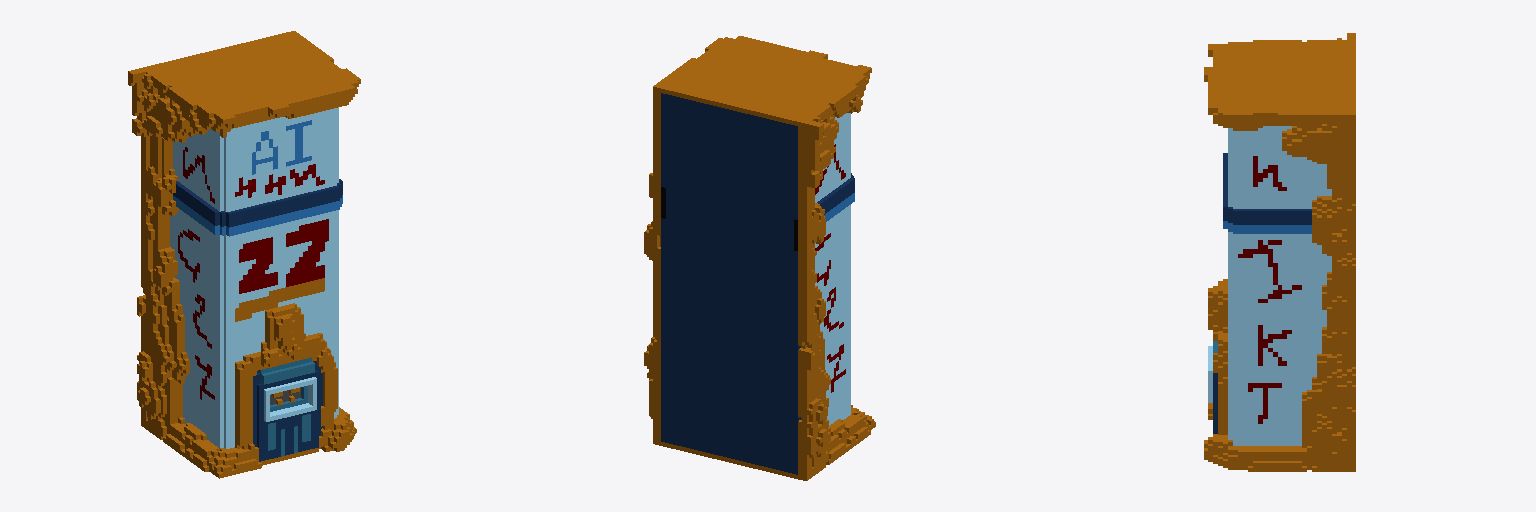
3 views of the same model, side by side, from view 1: azimuth 30°, elevation 25°; view 2: azimuth 150°, elevation 25°; view 3: azimuth 270°, elevation 25° (orthographic).
Visible parts, largest first — view 1: object 1; view 2: object 1; view 3: object 1.
Boxes of the visible parts, x1,y1,x2,y2 form: object 1: [128, 31, 360, 478]; object 1: [644, 36, 875, 480]; object 1: [1204, 33, 1355, 471].
Size of the model in its own units: 4.2 by 8 by 3.1.
1 materials, 1 textured.